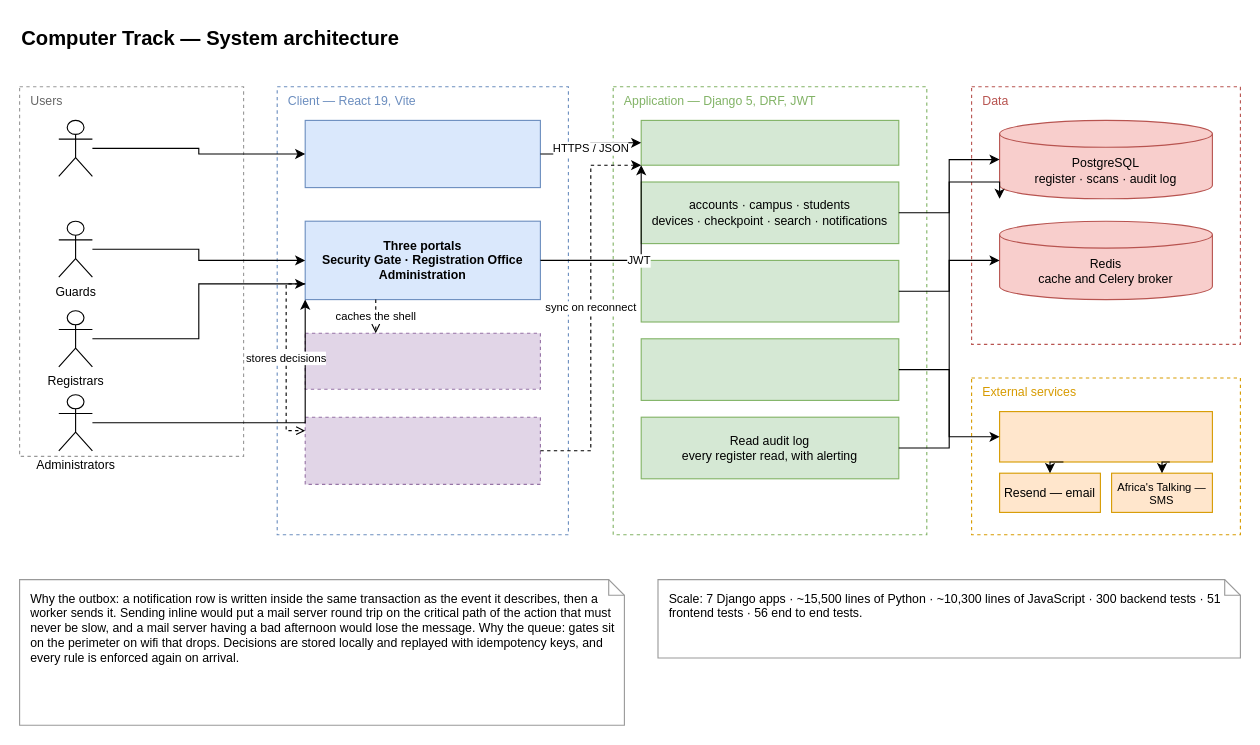
Some shapes in this 1260 by 745 pixel diagram are drawn without their labels. The centre of each missing label's shape, as x and y in pixels:
Celery worker and beat outbox · audit sweep · dashboard: the point at 769,369
Offline scan queue localStorage · idempotency keys: the point at 422,450
Outbox table written in the same transaction: the point at 1105,436
Policy rule store registry in code, values in the database: the point at 769,290
Public form register · report missing check my computers: the point at 422,153
REST API: the point at 769,142
Service worker app shell cache: the point at 422,360
Students no account: the point at 75,147
